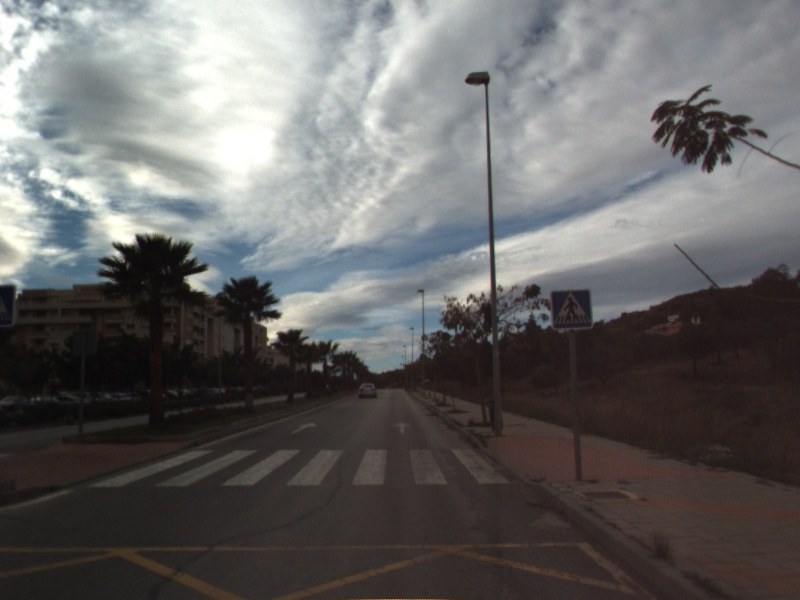STRAIGHT: (289, 420, 319, 435), (391, 420, 413, 435)
